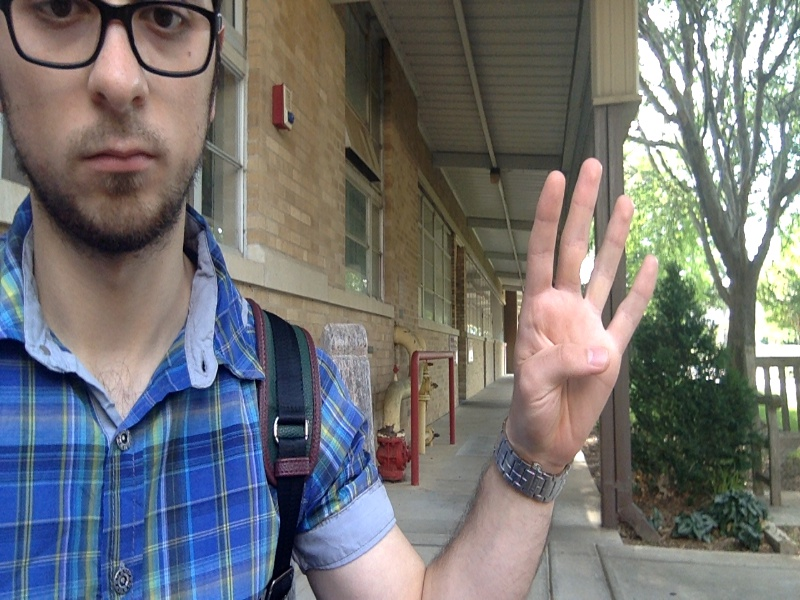4-hand: (516, 158, 659, 480)
